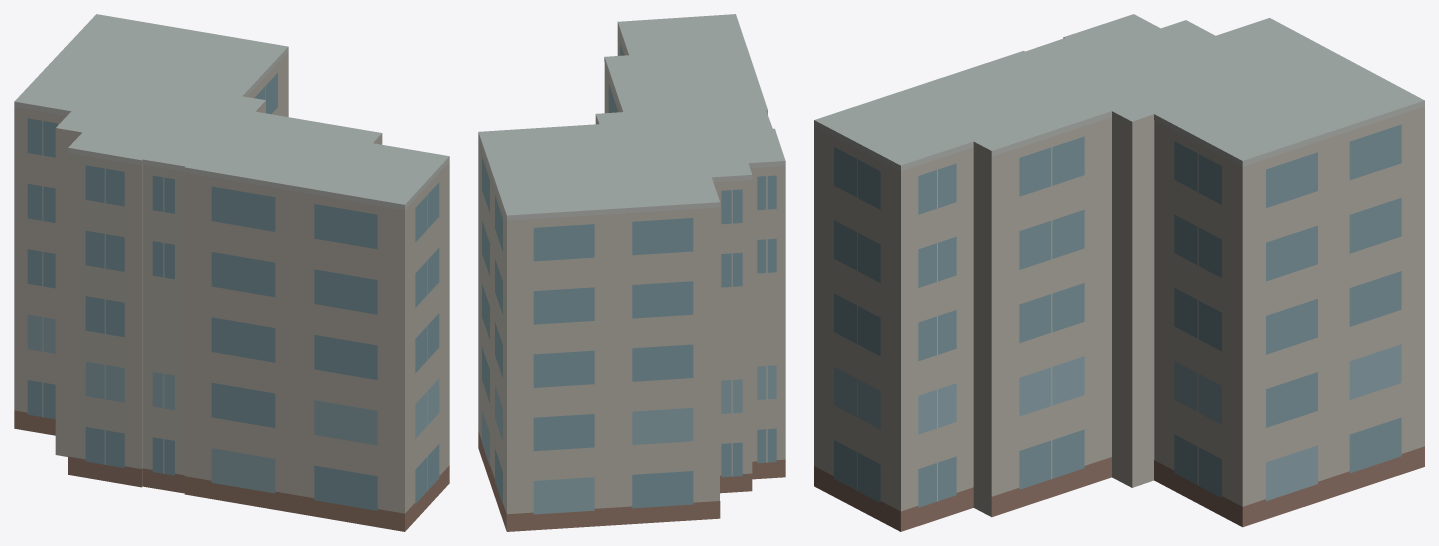
File: survey-upis-32470816.glb
3 views of the same model, side by side, from view 1: azimuth 30°, elevation 25°; view 2: azimuth 150°, elevation 25°; view 3: azimuth 270°, elevation 25° (orthographic). The views are drawn at different scales.
Visible parts, largest first — view 1: survey-upis-32470816.tmp; view 2: survey-upis-32470816.tmp; view 3: survey-upis-32470816.tmp.
Part boxes in pixels (bbox=[...]): survey-upis-32470816.tmp: bbox=[14, 14, 449, 531]; survey-upis-32470816.tmp: bbox=[478, 14, 785, 531]; survey-upis-32470816.tmp: bbox=[814, 14, 1424, 531].
Bounding box in the file's own units: 13.55 × 15.25 × 23.06.
